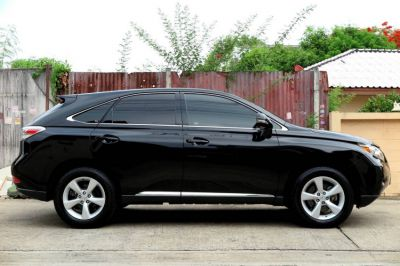pickup: (10, 91, 391, 228)
